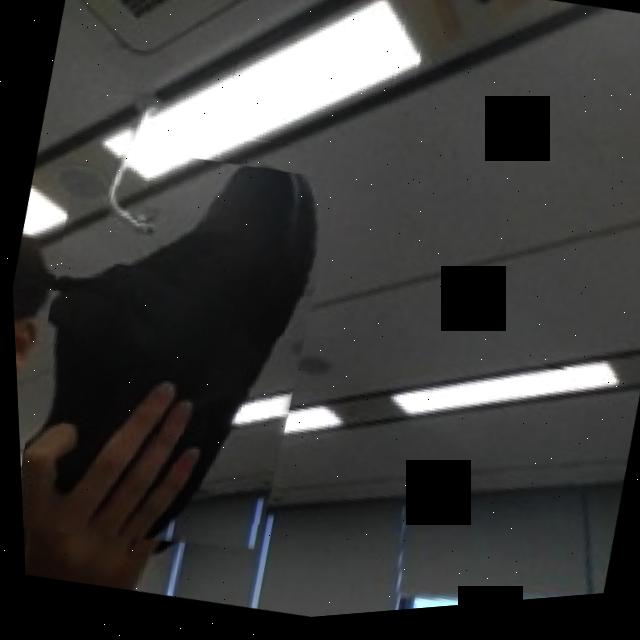shoe: (5, 126, 351, 586)
